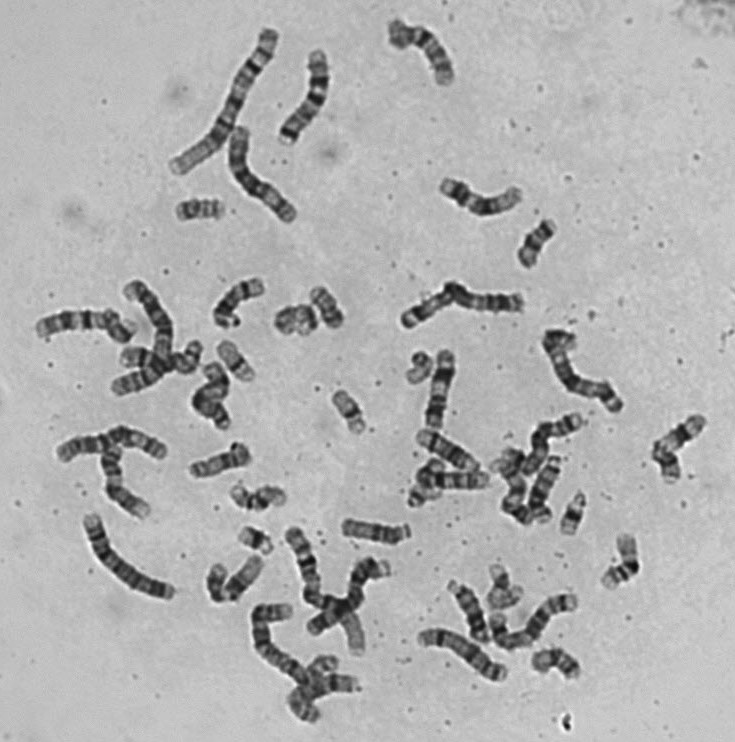chromosomes: (163, 18, 287, 182), (277, 521, 380, 665), (77, 508, 184, 606), (102, 272, 181, 400), (241, 597, 344, 690), (540, 323, 631, 421), (224, 121, 303, 229), (308, 548, 400, 640), (393, 278, 534, 335), (274, 39, 340, 157), (410, 616, 514, 688), (485, 584, 579, 663), (431, 162, 536, 225), (54, 420, 174, 469), (382, 15, 459, 91), (403, 457, 500, 517), (26, 300, 140, 351), (275, 670, 371, 729), (646, 402, 709, 491), (97, 442, 158, 527), (519, 407, 590, 480), (185, 353, 246, 436), (114, 329, 207, 380), (442, 575, 502, 652), (179, 432, 264, 486), (402, 423, 488, 475), (205, 268, 274, 332), (417, 344, 464, 435), (589, 529, 647, 599), (495, 440, 539, 532), (506, 212, 565, 278), (479, 550, 535, 619), (523, 446, 569, 529), (206, 551, 266, 613), (336, 509, 422, 552), (522, 640, 588, 694), (301, 276, 357, 336), (326, 380, 373, 445), (227, 475, 296, 516), (404, 455, 451, 512), (213, 335, 268, 383), (555, 483, 598, 543), (272, 294, 324, 343), (231, 517, 282, 565), (167, 193, 235, 224), (400, 342, 438, 389)
